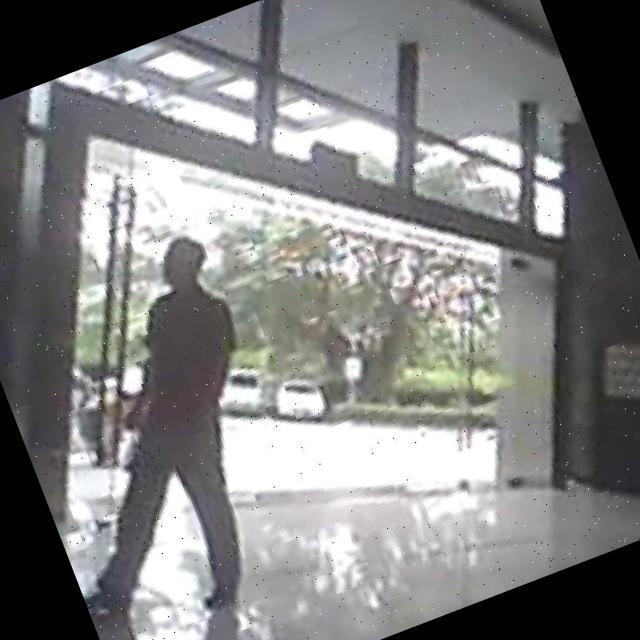person: (0, 217, 328, 640)
